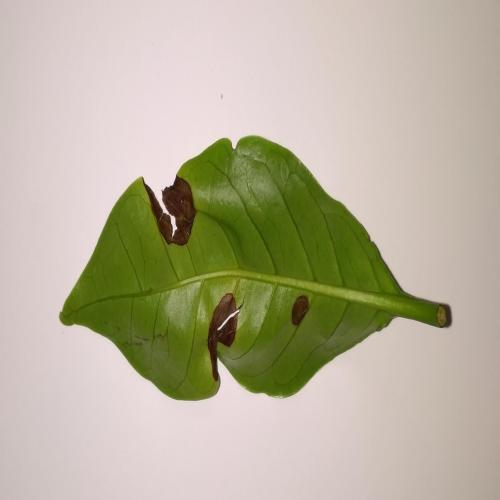miner: (143, 173, 196, 245)
